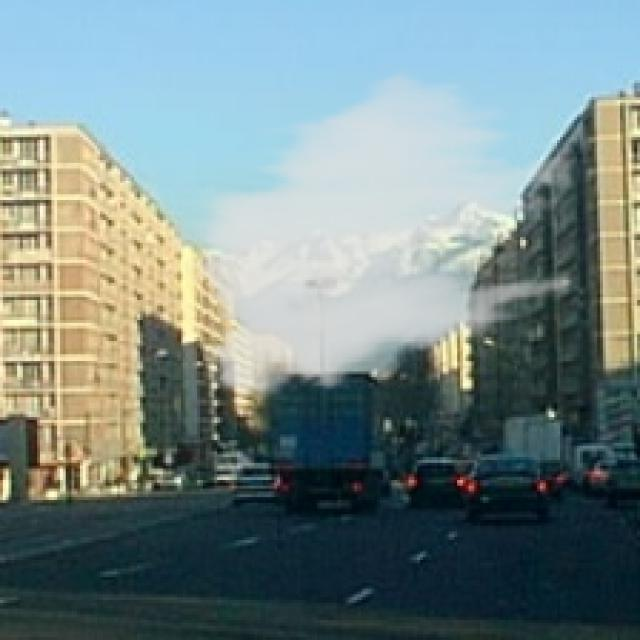Smoke: (179, 62, 572, 414)
